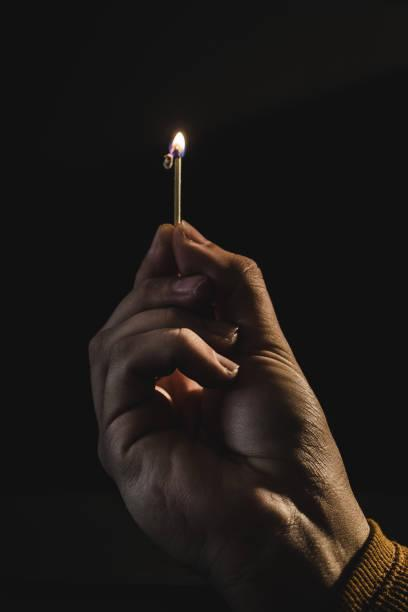Fire: (163, 125, 192, 157)
